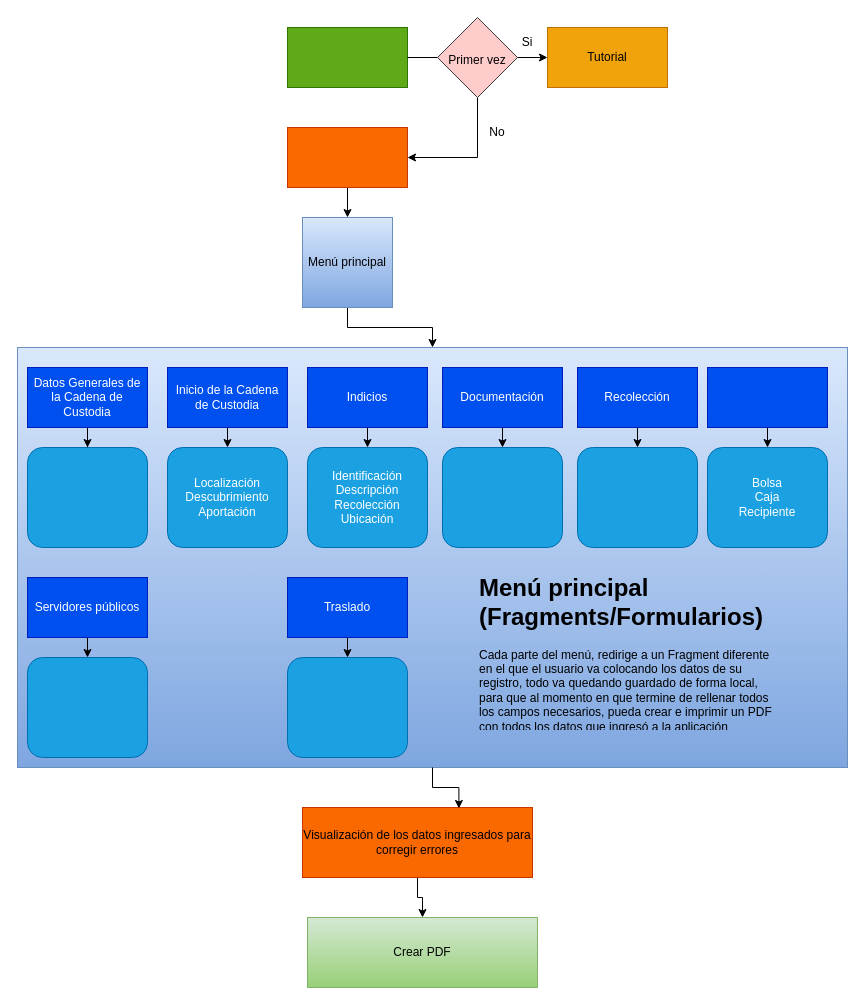
Image size: 865x1005. Some labels were removed from this diagram. The centre of each missing label's shape, as x and y in pixels:
Embalaje: (x=767, y=397)
Escrito Fotográfico Croquis: (x=502, y=497)
Login: (x=347, y=57)
Main: (x=347, y=157)
Manual Instrumental: (x=637, y=497)
No.Referencia. Institución Folio Lugar Fecha Hora: (x=87, y=497)
Nombre Institución Cargo Etapa: (x=87, y=707)
Terrestre Aéreo Marítimo: (x=347, y=707)
